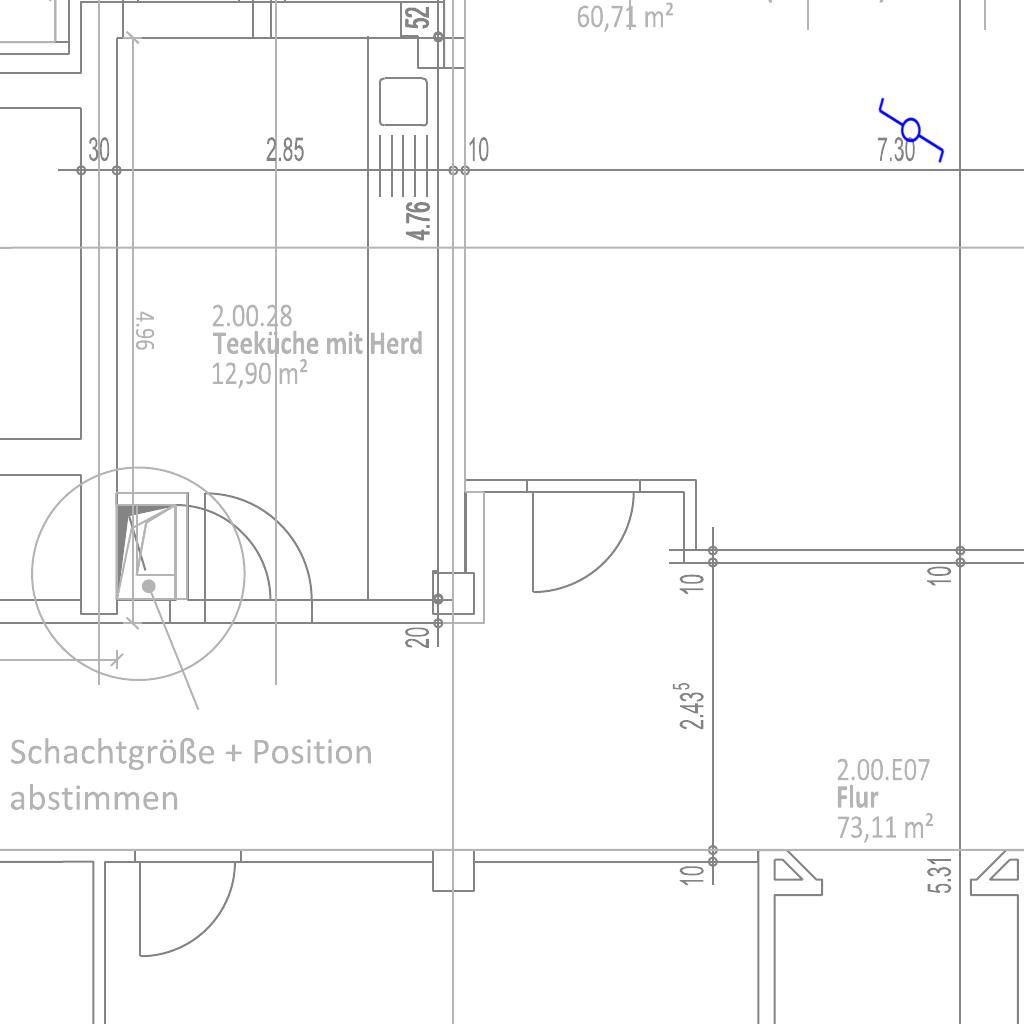Wechselschalter: (876, 87, 948, 165)
